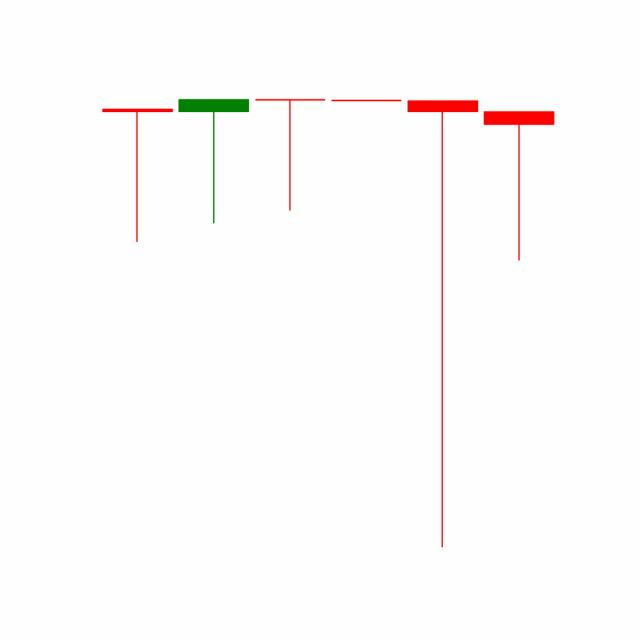Hanging Man: (403, 95, 481, 552)
